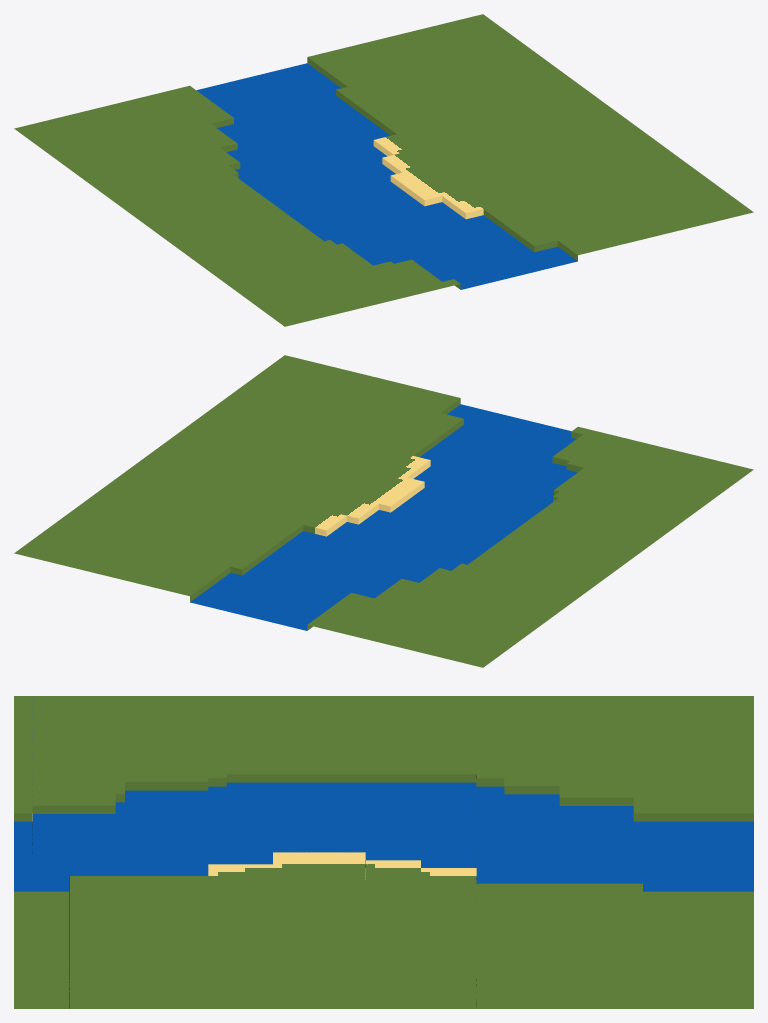
File: LLLLR92(1).glb
3 renders of one model, top to bottom at view 1: azimuth 30°, elevation 25°; view 2: azimuth 150°, elevation 25°; view 3: azimuth 270°, elevation 25°, orthographic. The views are drawn at different scales.
Visible parts, largest first — view 1: model_0.034; view 2: model_0.034; view 3: model_0.034.
Part boxes in pixels (x1,y1,x2,y2): model_0.034: (14, 14, 753, 326); model_0.034: (14, 355, 753, 667); model_0.034: (14, 696, 753, 1008).
Bounding box in the file's own units: 80 × 1 × 80.
1 material, 1 textured.
